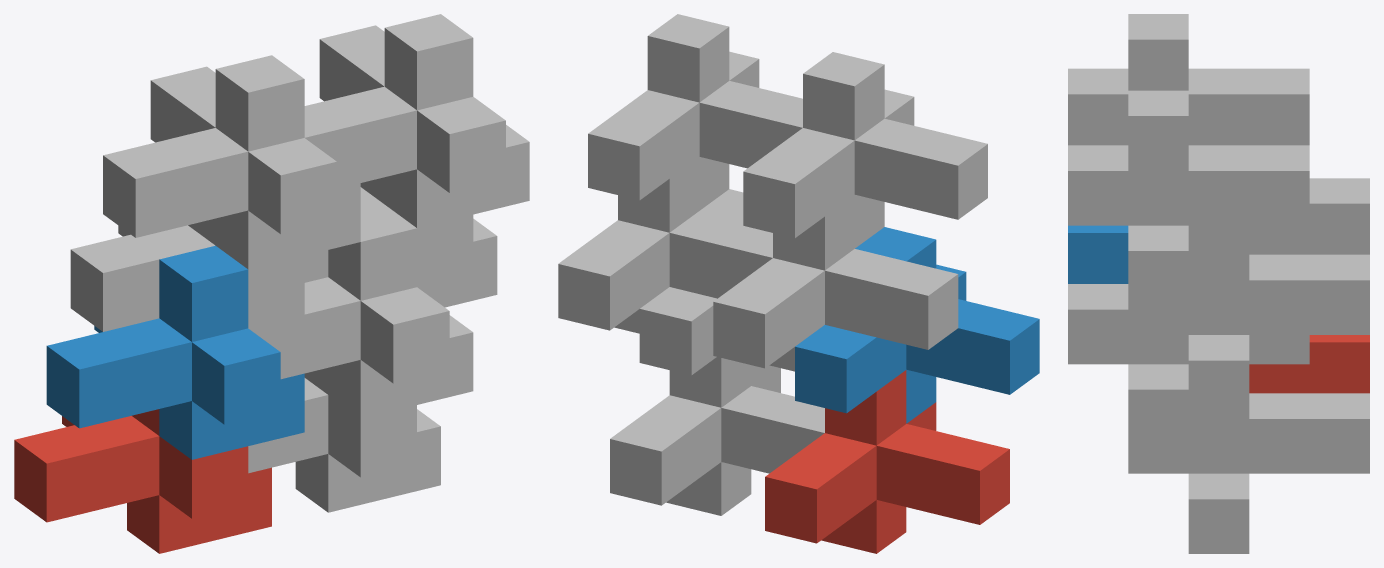
Rendered from tiling.obj.
3 renders of one model, left to right at view 1: azimuth 30°, elevation 25°; view 2: azimuth 150°, elevation 25°; view 3: azimuth 270°, elevation 25°, orthographic. The views are drawn at different scales.
Parts seen in each view (by area): view 1: copy_1_domain_4, copy_1_domain_8, copy_1_domain_2, copy_1_domain_6, copy_1_domain_1, copy_1_domain_5, copy_1_domain_3, copy_1_domain_7; view 2: copy_1_domain_4, copy_1_domain_1, copy_1_domain_8, copy_1_domain_3, copy_1_domain_5, copy_1_domain_7, copy_1_domain_2, copy_1_domain_6; view 3: copy_1_domain_8, copy_1_domain_7, copy_1_domain_5, copy_1_domain_4, copy_1_domain_6, copy_1_domain_3, copy_1_domain_1, copy_1_domain_2.
Boxes of the visible parts, bbox=[...] form: copy_1_domain_4: bbox=[103, 55, 360, 269]; copy_1_domain_8: bbox=[304, 14, 529, 228]; copy_1_domain_2: bbox=[46, 245, 304, 459]; copy_1_domain_6: bbox=[248, 204, 473, 418]; copy_1_domain_1: bbox=[14, 409, 271, 553]; copy_1_domain_5: bbox=[248, 368, 440, 512]; copy_1_domain_3: bbox=[70, 218, 304, 331]; copy_1_domain_7: bbox=[304, 177, 497, 307]; copy_1_domain_4: bbox=[743, 52, 987, 248]; copy_1_domain_1: bbox=[765, 370, 1009, 553]; copy_1_domain_8: bbox=[588, 14, 802, 210]; copy_1_domain_3: bbox=[713, 195, 958, 371]; copy_1_domain_5: bbox=[610, 357, 824, 515]; copy_1_domain_7: bbox=[558, 157, 772, 333]; copy_1_domain_2: bbox=[795, 227, 1039, 423]; copy_1_domain_6: bbox=[639, 189, 776, 385]; copy_1_domain_8: bbox=[1068, 90, 1309, 305]; copy_1_domain_7: bbox=[1128, 225, 1369, 415]; copy_1_domain_5: bbox=[1128, 393, 1369, 553]; copy_1_domain_4: bbox=[1068, 14, 1309, 145]; copy_1_domain_6: bbox=[1068, 284, 1309, 444]; copy_1_domain_3: bbox=[1249, 178, 1369, 254]; copy_1_domain_1: bbox=[1249, 335, 1369, 393]; copy_1_domain_2: bbox=[1068, 225, 1128, 283].
Size of the model in its own units: 8 by 8 by 5.
